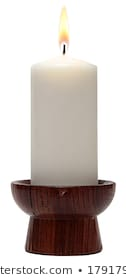Fire: (57, 4, 71, 52)
